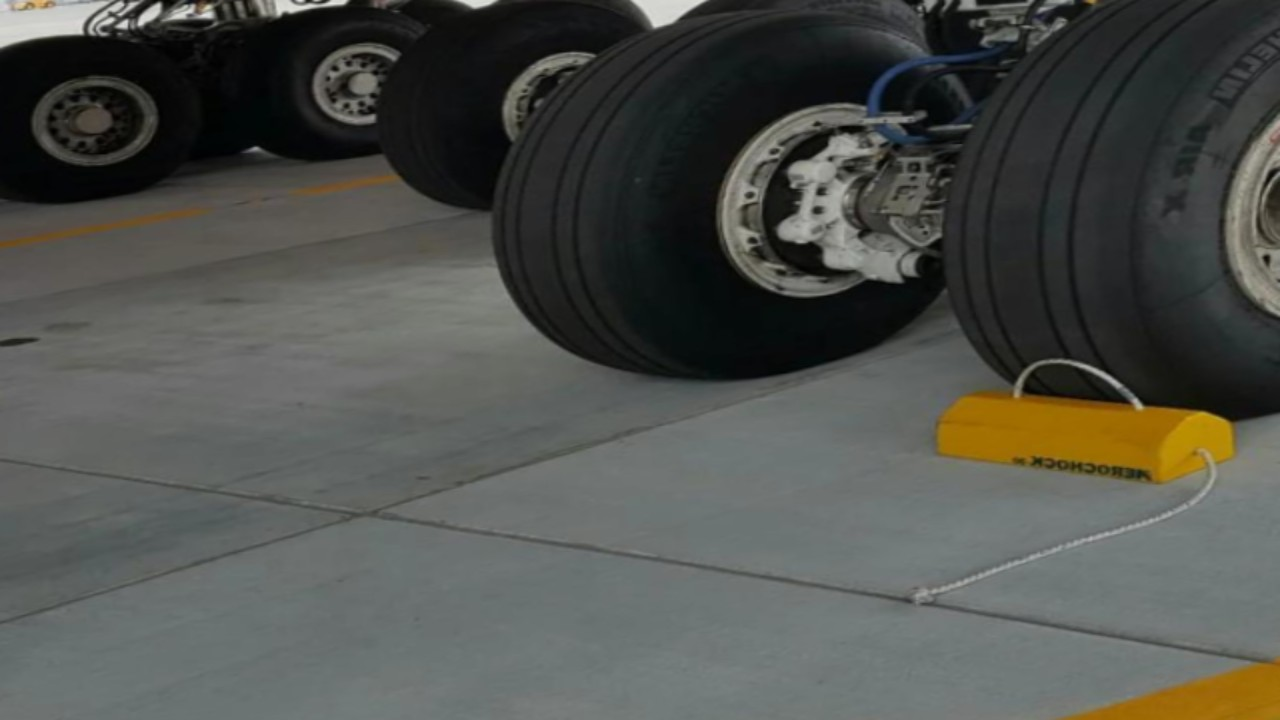chock: (920, 361, 1260, 504)
wheel: (465, 0, 1007, 404), (889, 0, 1280, 441), (358, 0, 683, 216), (0, 20, 215, 216), (211, 0, 443, 171), (133, 9, 288, 165), (668, 0, 919, 57), (473, 0, 652, 45)
